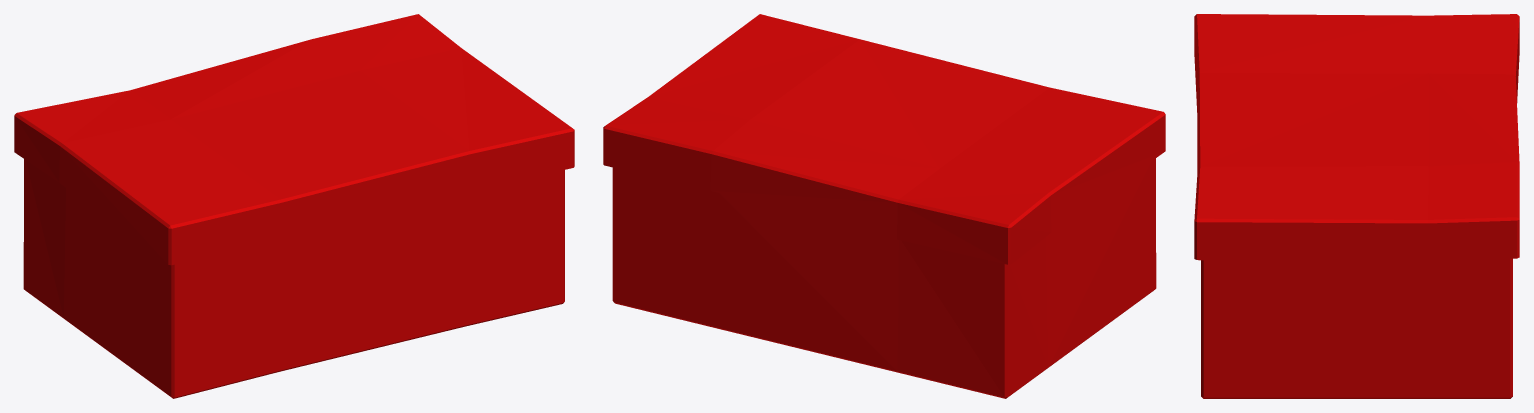
3 renders of one model, left to right at view 1: azimuth 30°, elevation 25°; view 2: azimuth 150°, elevation 25°; view 3: azimuth 270°, elevation 25°, orthographic. The views are drawn at different scales.
Parts seen in each view (by area): view 1: Mesh; view 2: Mesh; view 3: Mesh.
Part boxes in pixels (bbox=[...]): Mesh: bbox=[14, 14, 574, 398]; Mesh: bbox=[603, 14, 1165, 398]; Mesh: bbox=[1194, 14, 1519, 398].
Bounding box in the file's own units: 1.2 × 0.5046 × 0.7999.
